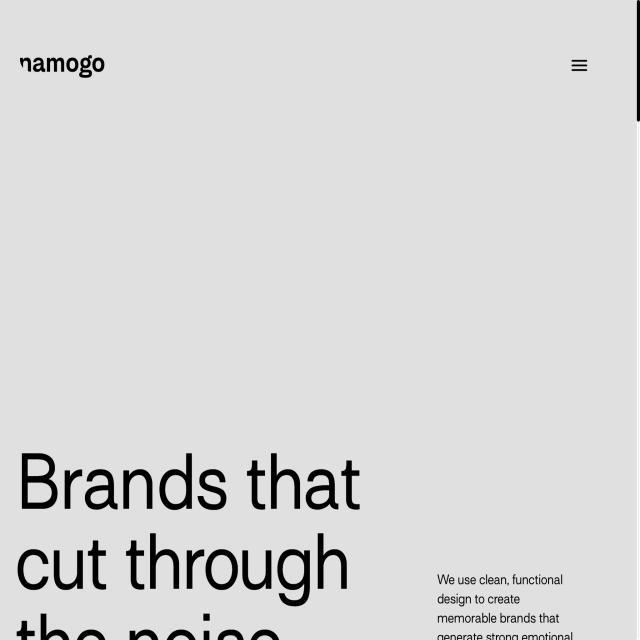text: (18, 439, 380, 615)
